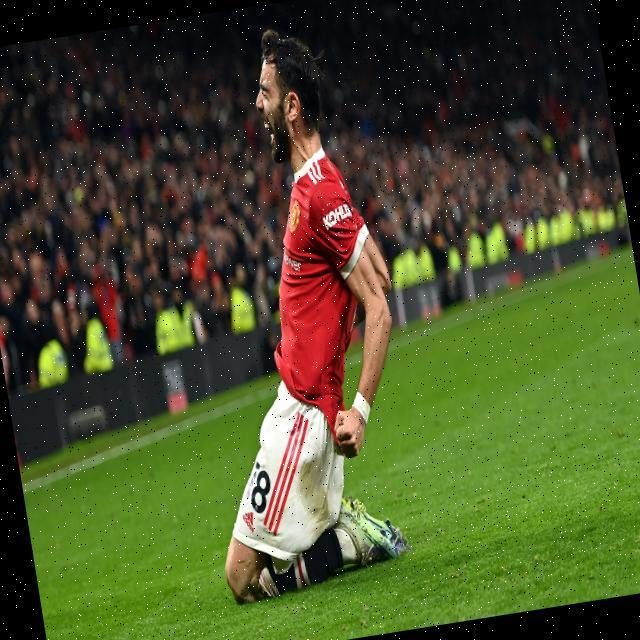Kohler: (318, 199, 357, 238)
